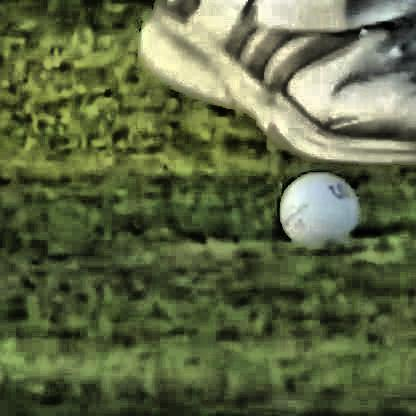golfball: (273, 170, 355, 247)
